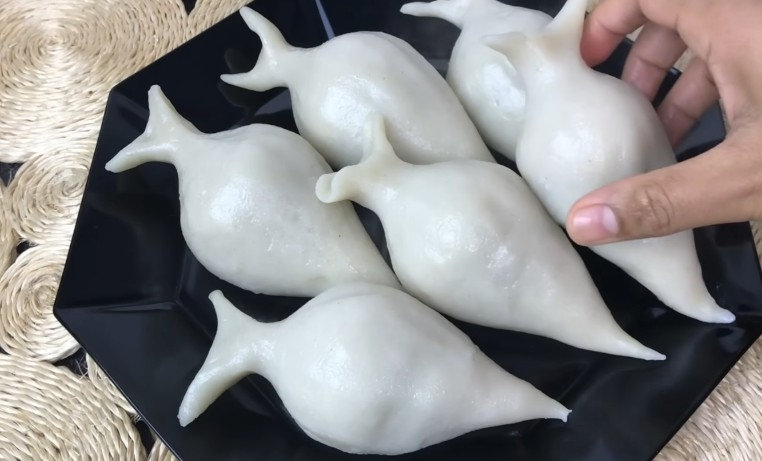yomari: (168, 289, 550, 441), (301, 111, 499, 260), (480, 1, 650, 148), (214, 3, 403, 109), (90, 83, 203, 240), (400, 0, 481, 82)
